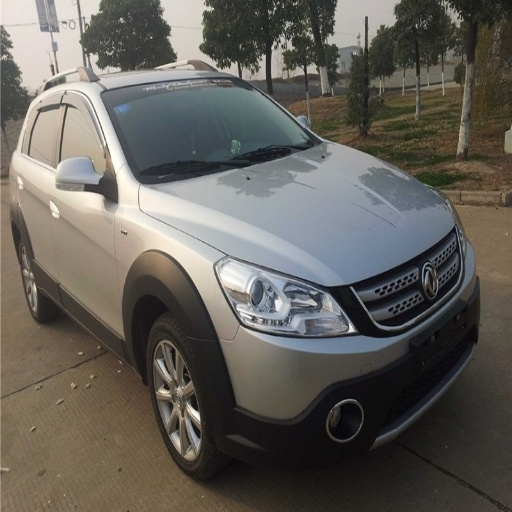front_bumper: (217, 242, 478, 453)
front_right_door: (50, 86, 117, 323)
front_right_light: (215, 256, 357, 337)
